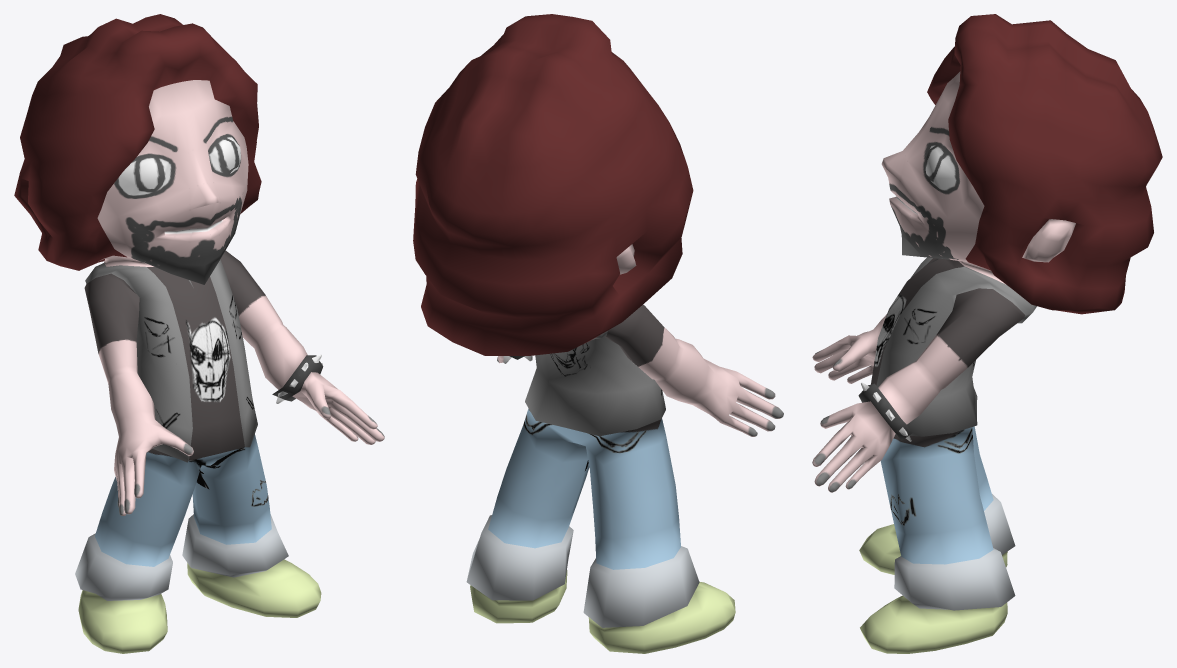
The model's file is rockero_rigging_000067.obj.
The picture shows the model from 3 angles, left to right: view 1: azimuth 30°, elevation 25°; view 2: azimuth 150°, elevation 25°; view 3: azimuth 270°, elevation 25°; orthographic projection. The views are drawn at different scales.
Visible parts, largest first — view 1: Cylinder.001; view 2: Cylinder.001; view 3: Cylinder.001.
Boxes of the visible parts, x1=… form: Cylinder.001: x1=14, y1=14, x2=384, y2=653; Cylinder.001: x1=413, y1=14, x2=783, y2=653; Cylinder.001: x1=812, y1=14, x2=1162, y2=653.
Size of the model in its own units: 2.28 by 4.75 by 2.62.
1 material, 1 textured.
